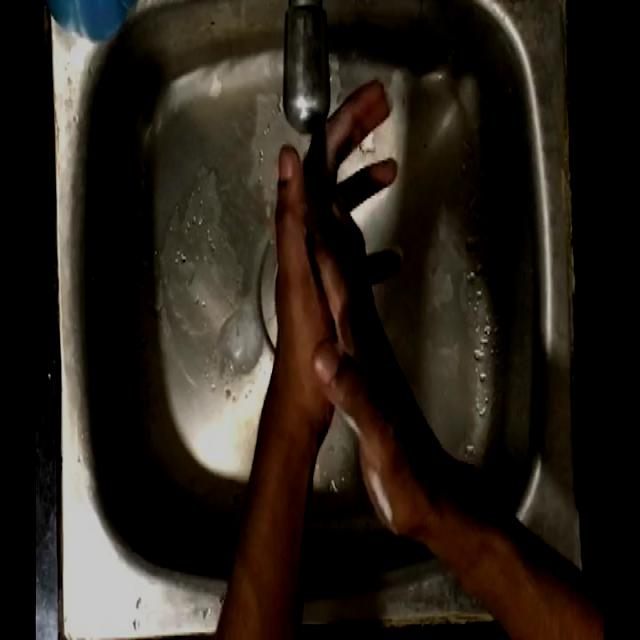step_3: (258, 68, 417, 417)
